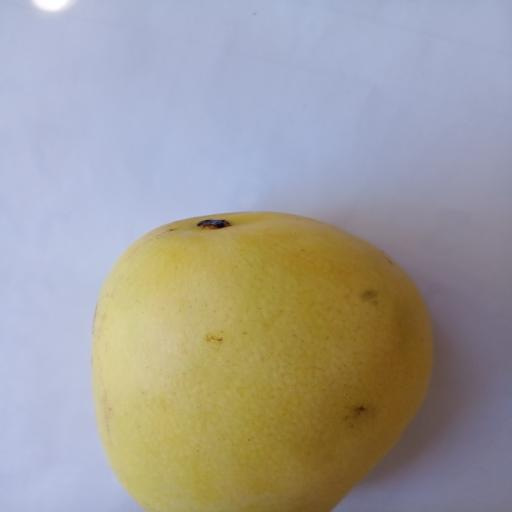mango-ripe: (71, 184, 452, 512)
